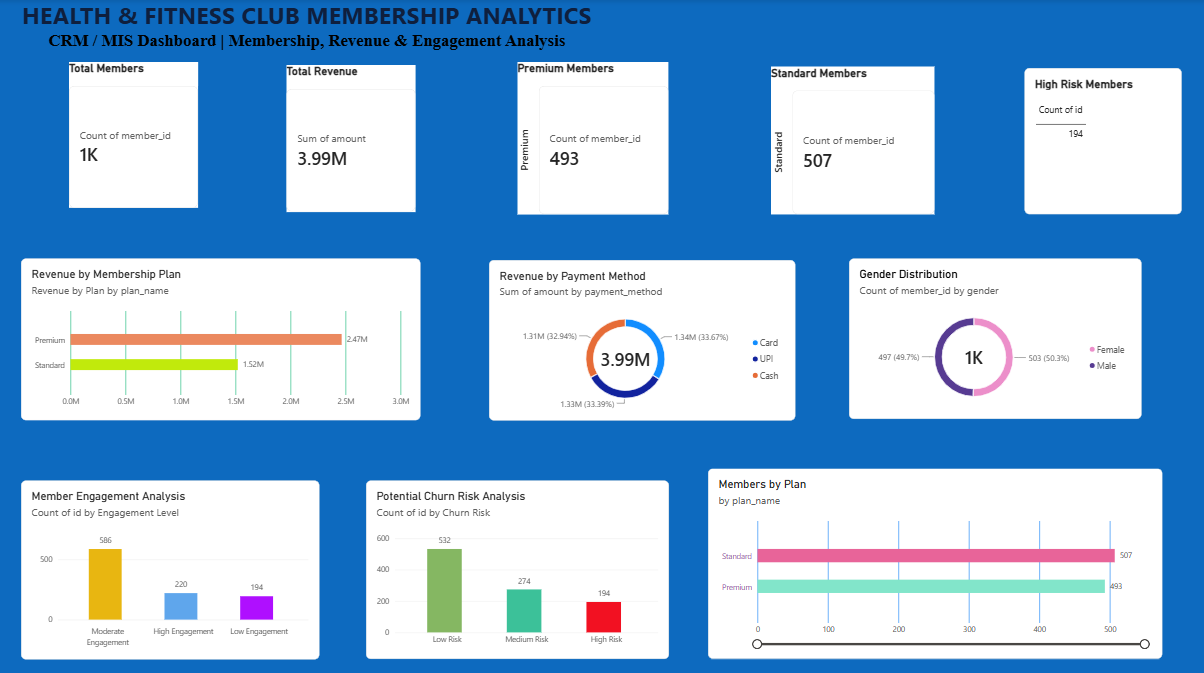

The dashboard page shown, as its layout file describes it:
{"tool":"powerbi","page":{"name":"Page 1","canvas":[1920,1080],"ordinal":0},"visuals":[{"type":"cardVisual","title":"Total Members","fields":{"Data":["CountNonNull(health_fitness_club members.member_id)"]},"box":[110,100,205.4,232.1],"z":0},{"type":"cardVisual","title":"Total Revenue","fields":{"Data":["Sum(health_fitness_club payment_history.amount)"]},"box":[455,105,205.4,233.9],"z":1000},{"type":"clusteredBarChart","fields":{"Category":["health_fitness_club plans.plan_name"],"Y":["health_fitness_club attendance.Members by Plan"]},"box":[1125,747.5,722.5,302.5],"z":2000},{"type":"clusteredBarChart","title":"Revenue by Membership Plan","fields":{"Category":["health_fitness_club plans.plan_name"],"Y":["health_fitness_club attendance.Revenue by Plan"]},"box":[32.5,412.5,635,257.5],"z":3000},{"type":"donutChart","title":"Gender Distribution","fields":{"Category":["health_fitness_club members.gender"],"Y":["CountNonNull(health_fitness_club members.member_id)"]},"box":[1350,412.5,465,255],"z":4000},{"type":"clusteredColumnChart","title":"Member Engagement Analysis","fields":{"Category":["health_fitness_club gym_membership.Engagement Level"],"Y":["CountNonNull(health_fitness_club gym_membership.id)"]},"box":[33.4,765.9,474.4,284.6],"z":5000},{"type":"clusteredColumnChart","title":"Potential Churn Risk Analysis","fields":{"Y":["CountNonNull(health_fitness_club gym_membership.id)"],"Category":["health_fitness_club gym_membership.Churn Risk"]},"box":[582.2,765.9,482,283.9],"z":6000},{"type":"donutChart","title":"Revenue by Payment Method","fields":{"Category":["health_fitness_club payment_history.payment_method"],"Y":["Sum(health_fitness_club payment_history.amount)"]},"box":[777.8,415.1,487.5,255],"z":7000},{"type":"cardVisual","title":"Premium Members","fields":{"Data":["CountNonNull(health_fitness_club member_plans.member_id)"],"Rows":["health_fitness_club plans.plan_name"]},"box":[822.5,100,240,242.5],"z":8000},{"type":"cardVisual","title":"Standard Members","fields":{"Data":["CountNonNull(health_fitness_club member_plans.member_id)"],"Rows":["health_fitness_club plans.plan_name"]},"box":[1227.5,107.5,260,235],"z":9000},{"type":"tableEx","title":"High Risk Members","fields":{"Values":["CountNonNull(health_fitness_club gym_membership.id)"]},"box":[1630,110,250,232.5],"z":10000},{"type":"textbox","box":[33.4,0,909,100.2],"z":11000}]}

Visuals, with their boxes in screenshot pixels (x1, y1, x2, y2), scaled from the page's 1920x1080 canvas onto the 1204x673 screenshot:
"Total Members" cardVisual: region(69, 62, 198, 207)
"Total Revenue" cardVisual: region(285, 65, 414, 211)
clusteredBarChart - health_fitness_club plans.plan_name x health_fitness_club attendance.Members by Plan: region(705, 466, 1159, 654)
"Revenue by Membership Plan" clusteredBarChart: region(20, 257, 419, 418)
"Gender Distribution" donutChart: region(847, 257, 1138, 416)
"Member Engagement Analysis" clusteredColumnChart: region(21, 477, 318, 655)
"Potential Churn Risk Analysis" clusteredColumnChart: region(365, 477, 667, 654)
"Revenue by Payment Method" donutChart: region(488, 259, 793, 418)
"Premium Members" cardVisual: region(516, 62, 666, 213)
"Standard Members" cardVisual: region(770, 67, 933, 213)
"High Risk Members" tableEx: region(1022, 69, 1179, 213)
textbox: region(21, 0, 591, 62)
